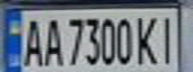0: (115, 14, 136, 66), (100, 14, 118, 65)
3: (81, 14, 100, 66)
7: (63, 14, 84, 66)
A: (18, 14, 45, 68), (39, 14, 63, 68)
I: (154, 11, 184, 65)
K: (133, 11, 163, 66)
